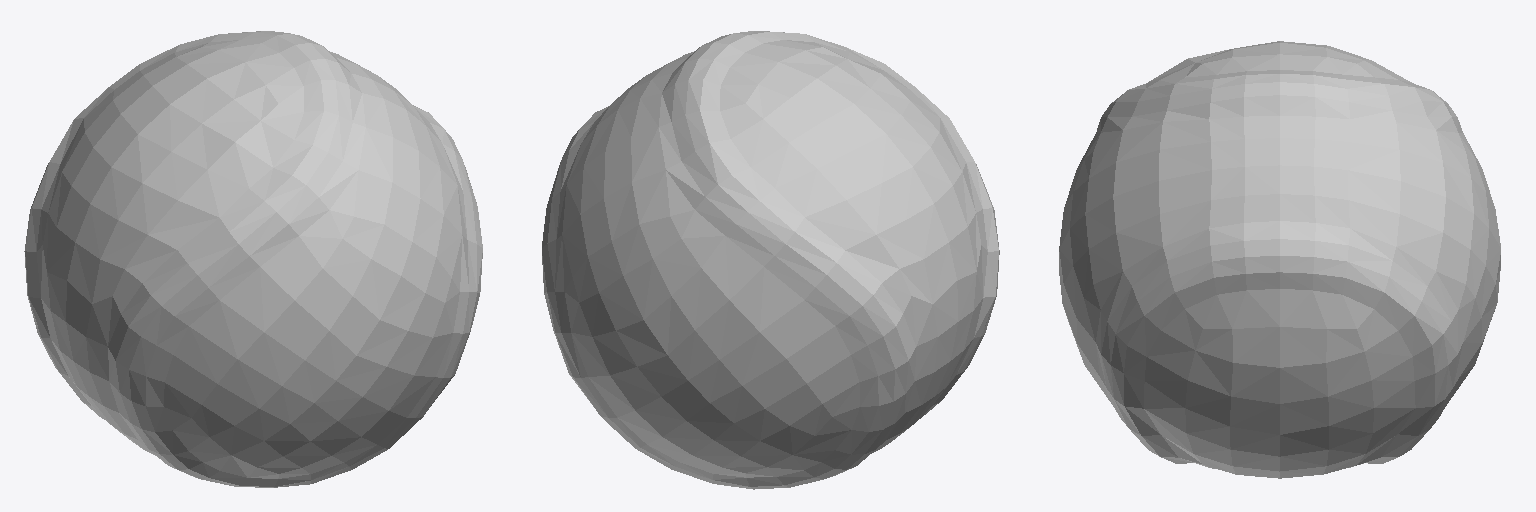
Rendered from baseball.obj.
The picture shows the model from 3 angles: view 1: azimuth 30°, elevation 25°; view 2: azimuth 150°, elevation 25°; view 3: azimuth 270°, elevation 25°; orthographic projection.
Visible parts, largest first — view 1: polySurface5_lambert1_0; view 2: polySurface5_lambert1_0; view 3: polySurface5_lambert1_0.
Part boxes in pixels (x1,y1,x2,y2): polySurface5_lambert1_0: (24, 31, 482, 487); polySurface5_lambert1_0: (542, 31, 999, 489); polySurface5_lambert1_0: (1059, 41, 1500, 478).
Size of the model in its own units: 0.812 by 0.8223 by 0.8184.